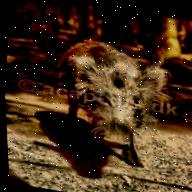boar: (46, 37, 192, 187)
